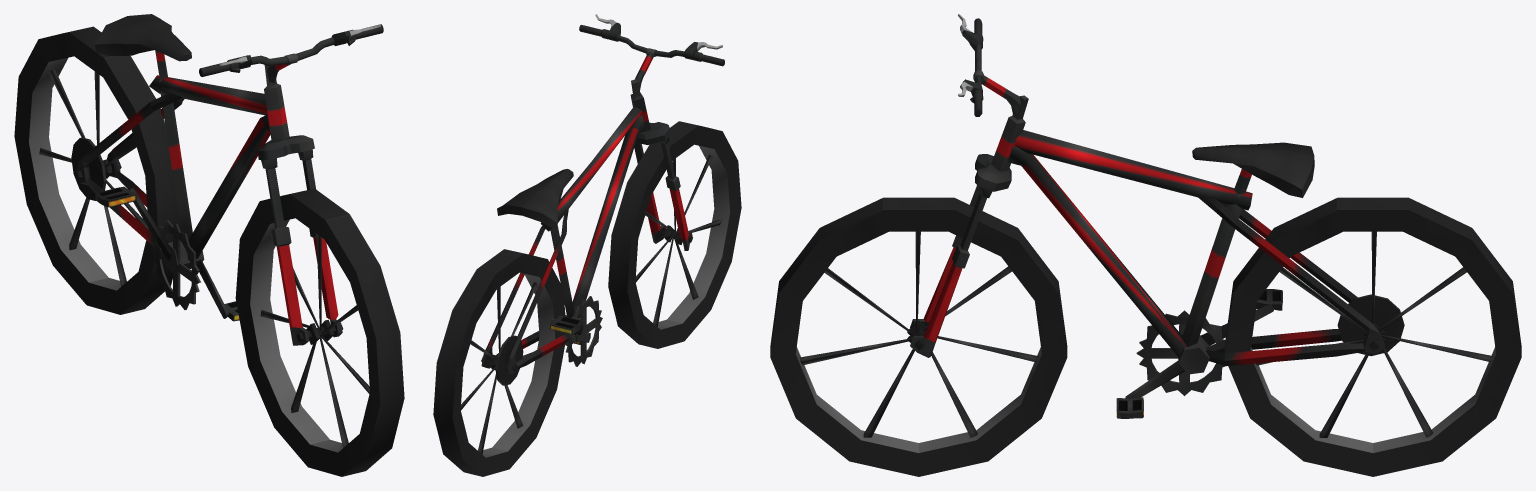
File: RobloxsaiBike.obj
The picture shows the model from 3 angles, left to right: view 1: azimuth 30°, elevation 25°; view 2: azimuth 150°, elevation 25°; view 3: azimuth 270°, elevation 25°; orthographic projection. The views are drawn at different scales.
Visible parts, largest first — view 1: Handle1; view 2: Handle1; view 3: Handle1.
Part boxes in pixels (x1,y1,x2,y2): Handle1: [14, 14, 404, 476]; Handle1: [433, 14, 741, 476]; Handle1: [770, 14, 1521, 476].
Bounding box in the file's own units: 2.03 × 4.31 × 7.04.
Materials: 1 (1 with a texture image).
